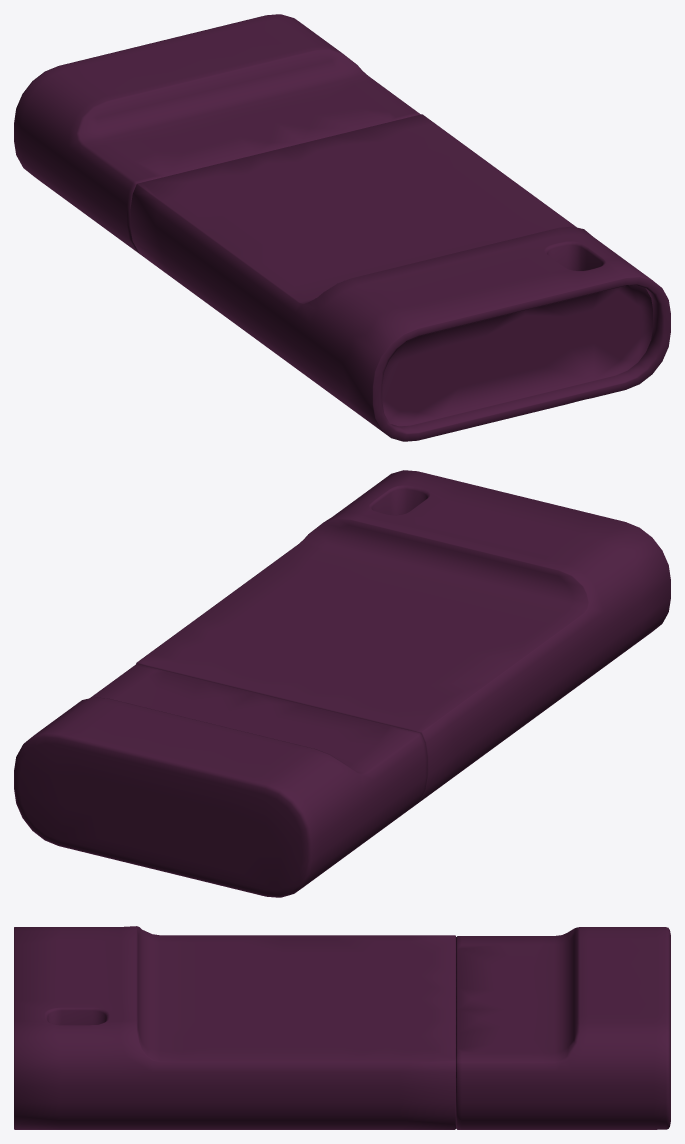
File: usb.glb
The picture shows the model from 3 angles, top to bottom: view 1: azimuth 30°, elevation 25°; view 2: azimuth 150°, elevation 25°; view 3: azimuth 270°, elevation 25°; orthographic projection. The views are drawn at different scales.
Visible parts, largest first — view 1: USB Body, USB Cap; view 2: USB Body, USB Cap; view 3: USB Body, USB Cap.
Boxes of the visible parts, x1,y1,x2,y2 form: USB Body: (130, 114, 670, 441); USB Cap: (14, 14, 420, 258); USB Body: (136, 470, 670, 807); USB Cap: (14, 664, 427, 897); USB Body: (14, 926, 455, 1129); USB Cap: (456, 927, 670, 1129).
Bounding box in the file's own units: 2 × 0.7271 × 4.2.
